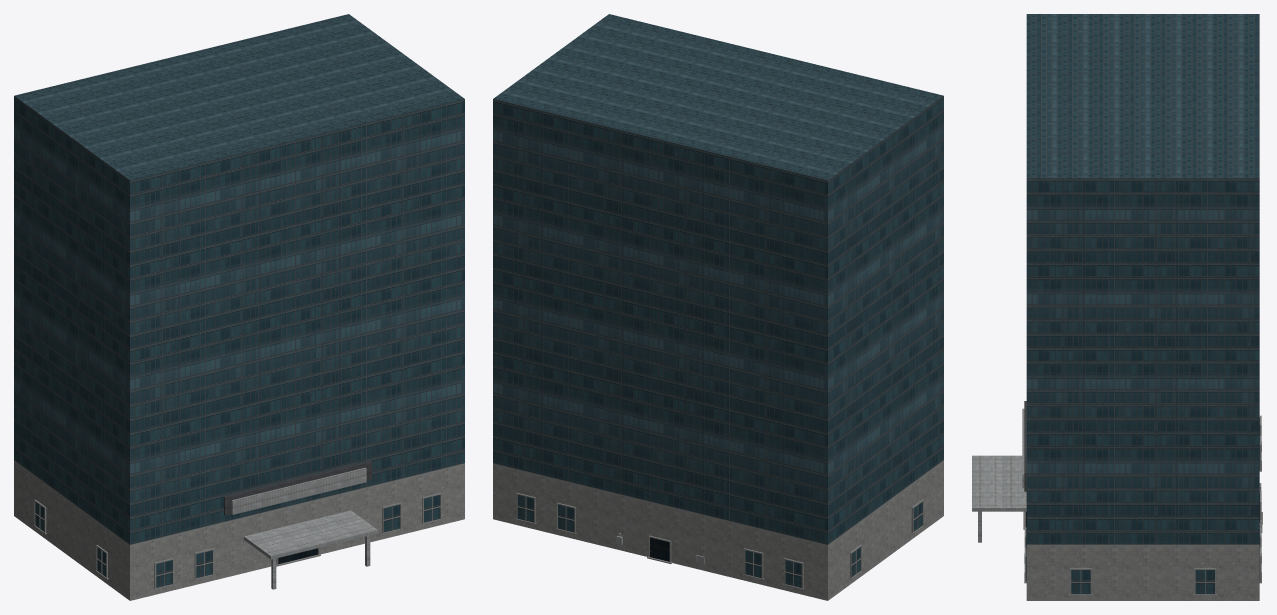
The model's file is downtown-hotel_lod0.gltf.
The picture shows the model from 3 angles, left to right: view 1: azimuth 30°, elevation 25°; view 2: azimuth 150°, elevation 25°; view 3: azimuth 270°, elevation 25°; orthographic projection.
Parts seen in each view (by area): view 1: downtown-hotel_upper, downtown-hotel_base, downtown-hotel__porte_cochere, downtown-hotel_fen_07-glass-curtain-blue_3, downtown-hotel__sign_band, downtown-hotel_fen_06-granite_0, downtown-hotel__sign_frame; view 2: downtown-hotel_upper, downtown-hotel_base, downtown-hotel_fen_07-glass-curtain-blue_3, downtown-hotel_fen_06-granite_0; view 3: downtown-hotel_upper, downtown-hotel_base, downtown-hotel__porte_cochere, downtown-hotel_fen_07-glass-curtain-blue_3, downtown-hotel_fen_06-granite_0.
Part boxes in pixels (<box>): downtown-hotel_upper: <box>14,14,464,544</box>; downtown-hotel_base: <box>14,460,464,600</box>; downtown-hotel__porte_cochere: <box>244,510,377,559</box>; downtown-hotel_fen_07-glass-curtain-blue_3: <box>35,495,440,587</box>; downtown-hotel__sign_band: <box>231,467,366,514</box>; downtown-hotel_fen_06-granite_0: <box>33,493,442,589</box>; downtown-hotel__sign_frame: <box>224,461,372,515</box>; downtown-hotel_upper: <box>493,14,943,544</box>; downtown-hotel_base: <box>493,460,943,600</box>; downtown-hotel_fen_07-glass-curtain-blue_3: <box>517,495,922,587</box>; downtown-hotel_fen_06-granite_0: <box>515,493,924,589</box>; downtown-hotel_upper: <box>1026,14,1259,544</box>; downtown-hotel_base: <box>1026,544,1259,600</box>; downtown-hotel__porte_cochere: <box>972,455,1026,511</box>; downtown-hotel_fen_07-glass-curtain-blue_3: <box>1026,417,1259,594</box>; downtown-hotel_fen_06-granite_0: <box>1023,415,1262,595</box>.
Size of the model in its own units: 50.55 by 60.02 by 37.4.
